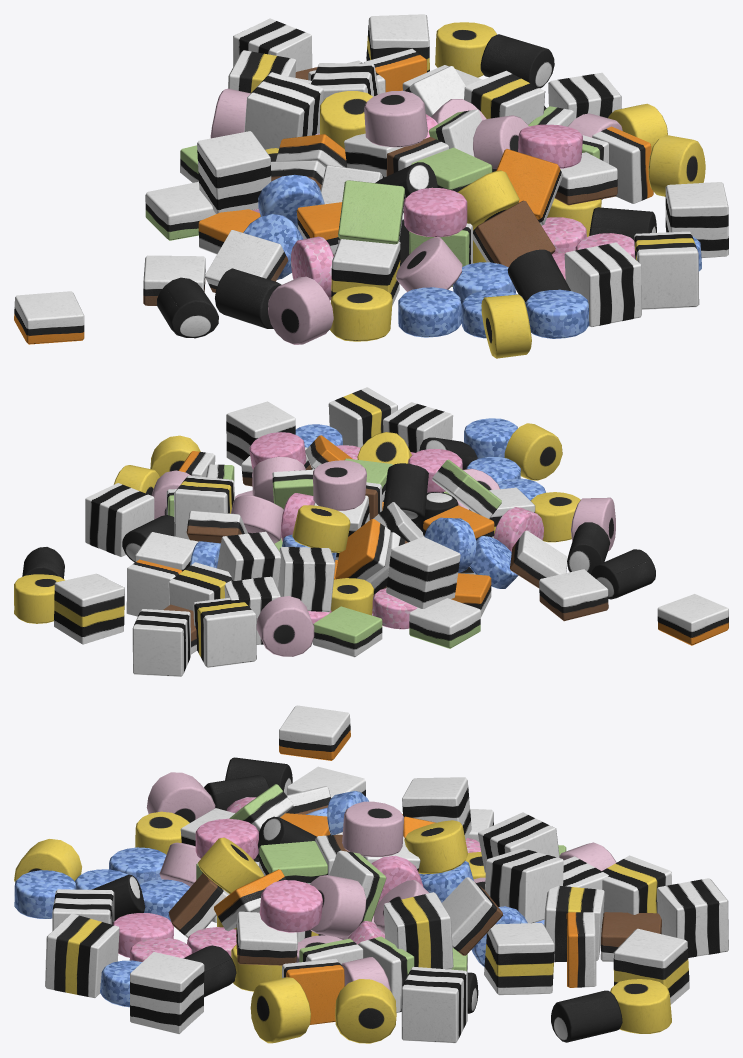
File: sweetness3.glb
The picture shows the model from 3 angles, top to bottom: view 1: azimuth 30°, elevation 25°; view 2: azimuth 150°, elevation 25°; view 3: azimuth 270°, elevation 25°; orthographic projection. The views are drawn at different scales.
Parts seen in each view (by area): view 1: Sweets-material; view 2: Sweets-material; view 3: Sweets-material.
Part boxes in pixels (x1,y1,x2,y2): Sweets-material: (14, 14, 728, 358); Sweets-material: (14, 387, 728, 676); Sweets-material: (14, 705, 728, 1043).
Bounding box in the file's own units: 0.2624 × 0.0438 × 0.2481.
Materials: 1 (1 with a texture image).
